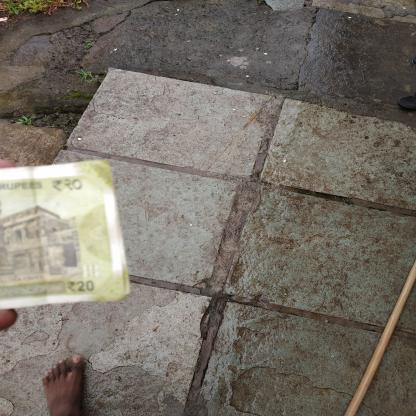New20Back: (0, 165, 115, 303)
